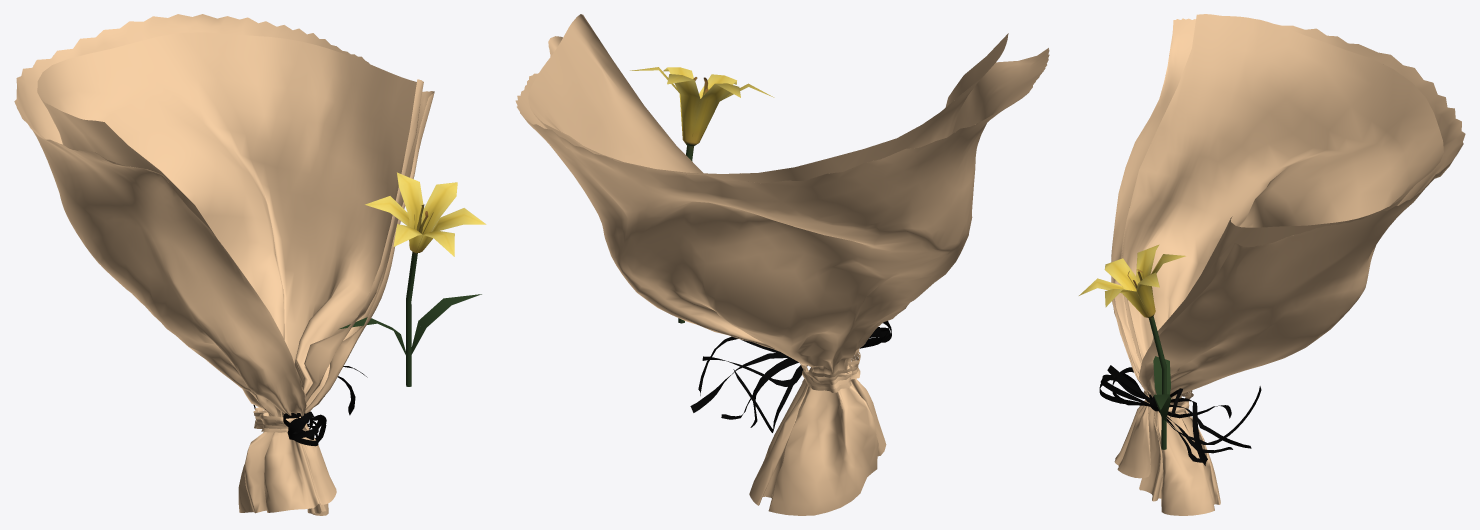
3 views of the same model, side by side, from view 1: azimuth 30°, elevation 25°; view 2: azimuth 150°, elevation 25°; view 3: azimuth 270°, elevation 25° (orthographic). The views are drawn at different scales.
Parts seen in each view (by area): view 1: inner, outer, SM_Lilly1, ribbon, parcel_knot; view 2: outer, inner, SM_Lilly1, ribbon, parcel_knot; view 3: inner, outer, SM_Lilly1, ribbon.
Boxes of the visible parts, box(x1,y1,x2,y2) form: inner: box(37, 32, 423, 417); outer: box(14, 14, 434, 515); SM_Lilly1: box(339, 172, 486, 386); ribbon: box(253, 366, 367, 446); parcel_knot: box(253, 407, 300, 432); outer: box(515, 36, 1049, 515); inner: box(528, 14, 1008, 183); SM_Lilly1: box(630, 67, 774, 323); ribbon: box(690, 321, 891, 432); parcel_knot: box(800, 348, 860, 392); inner: box(1121, 14, 1443, 366); outer: box(1111, 18, 1465, 515); SM_Lilly1: box(1079, 244, 1185, 449); ribbon: box(1099, 365, 1261, 465).
Size of the model in its own units: 1.84 by 1.9 by 1.64.
6 materials, 1 textured.
